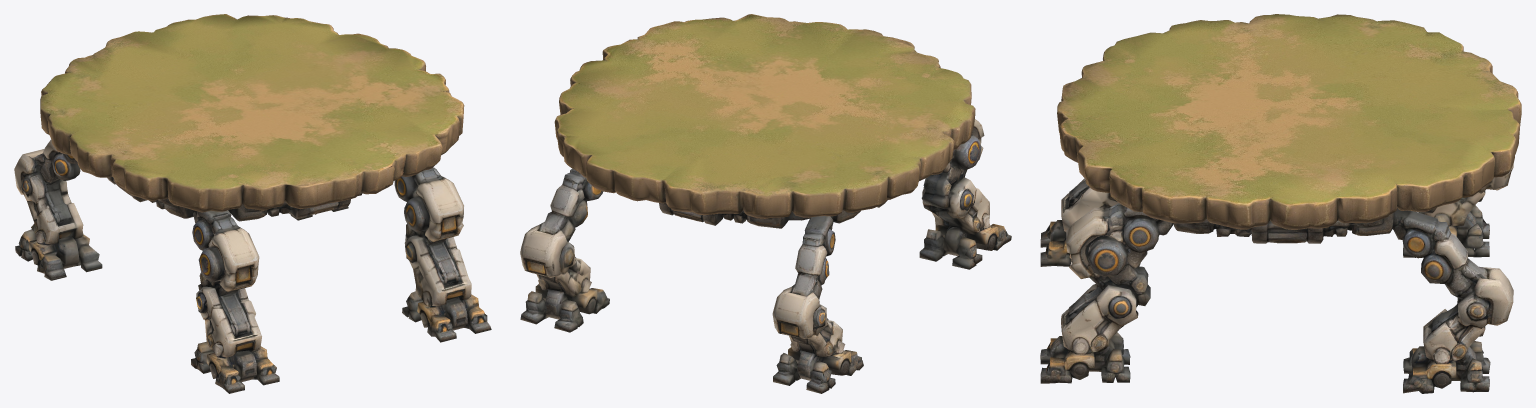
File: tripo_convert_c5c1a878-e2ea-45bf-a29c-e6b9868e579b.fbx
The picture shows the model from 3 angles, left to right: view 1: azimuth 30°, elevation 25°; view 2: azimuth 150°, elevation 25°; view 3: azimuth 270°, elevation 25°; orthographic projection. The views are drawn at different scales.
Parts seen in each view (by area): view 1: tripo_part_1, tripo_part_4, tripo_part_2, tripo_part_9, tripo_part_6, tripo_part_7, tripo_part_3, tripo_part_0; view 2: tripo_part_1, tripo_part_2, tripo_part_3, tripo_part_10, tripo_part_9, tripo_part_5, tripo_part_6, tripo_part_0, tripo_part_11; view 3: tripo_part_1, tripo_part_4, tripo_part_7, tripo_part_10, tripo_part_5, tripo_part_0, tripo_part_2, tripo_part_9, tripo_part_8.
Part boxes in pixels (box(x1,y1,x2,y2)): tripo_part_1: box(40, 14, 464, 212); tripo_part_4: box(402, 232, 491, 342); tripo_part_2: box(191, 286, 279, 393); tripo_part_9: box(15, 189, 102, 280); tripo_part_6: box(192, 210, 259, 296); tripo_part_7: box(395, 167, 463, 242); tripo_part_3: box(14, 139, 80, 202); tripo_part_0: box(107, 177, 362, 221); tripo_part_1: box(554, 14, 975, 218); tripo_part_2: box(919, 177, 1011, 269); tripo_part_3: box(772, 216, 835, 338); tripo_part_10: box(520, 175, 587, 277); tripo_part_9: box(773, 318, 863, 393); tripo_part_5: box(520, 257, 609, 332); tripo_part_6: box(921, 119, 984, 208); tripo_part_0: box(659, 199, 888, 228); tripo_part_11: box(804, 216, 833, 236); tripo_part_1: box(1057, 14, 1521, 229); tripo_part_4: box(1040, 281, 1138, 383); tripo_part_7: box(1066, 203, 1173, 305); tripo_part_10: box(1421, 221, 1513, 328); tripo_part_5: box(1403, 305, 1490, 393); tripo_part_0: box(1174, 207, 1436, 243); tripo_part_2: box(1040, 178, 1118, 266); tripo_part_9: box(1403, 191, 1489, 257); tripo_part_8: box(1392, 208, 1443, 258).
Size of the model in its own units: 0.9473 by 0.4627 by 1.
13 materials, 13 textured.
